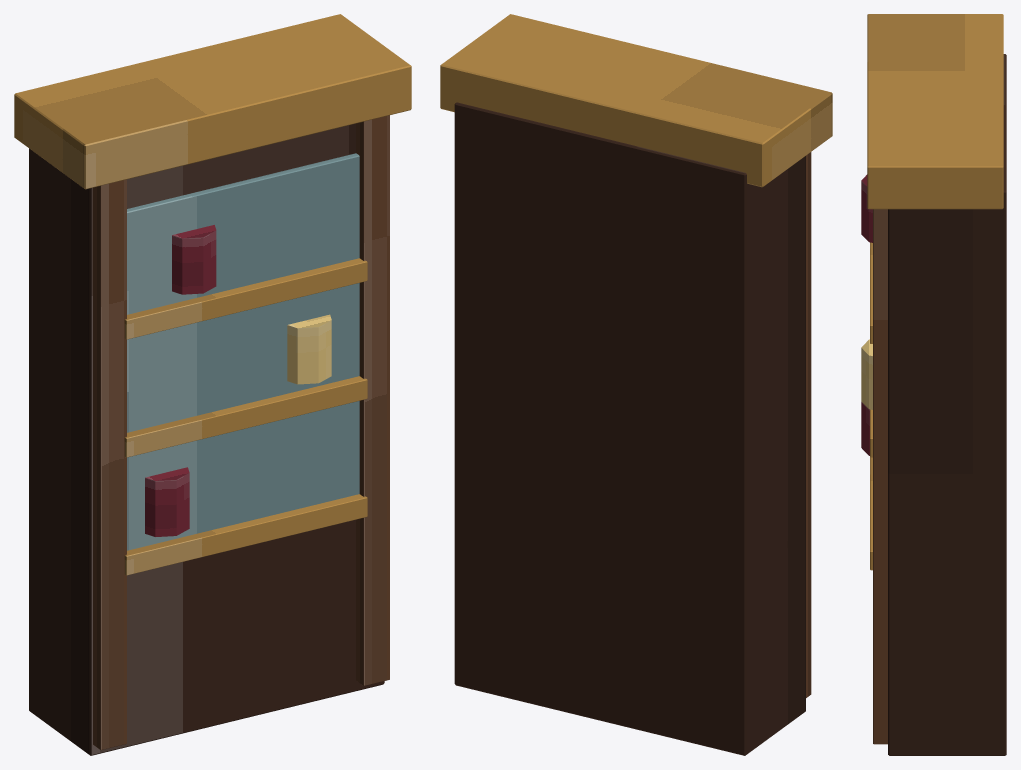
File: mansion_display_cabinet.glb
The picture shows the model from 3 angles, left to right: view 1: azimuth 30°, elevation 25°; view 2: azimuth 150°, elevation 25°; view 3: azimuth 270°, elevation 25°; orthographic projection. The views are drawn at different scales.
Visible parts, largest first — view 1: DisplayCabinetBody, DisplayGlass, DisplayCrown, DisplayPillar-0.49, DisplayPillar0.49, DisplayShelf0.68, DisplayShelf1.1, DisplayShelf1.52, DisplayVase_2, DisplayVase_1, DisplayVase_3; view 2: DisplayCabinetBody, DisplayCrown, DisplayPillar-0.49; view 3: DisplayCabinetBody, DisplayCrown, DisplayPillar0.49, DisplayVase_2, DisplayVase_3, DisplayVase_1, DisplayShelf0.68, DisplayShelf1.52.
Boxes of the visible parts, x1,y1,x2,y2 form: DisplayCabinetBody: [29, 123, 384, 755]; DisplayGlass: [127, 153, 359, 550]; DisplayCrown: [14, 14, 411, 189]; DisplayPillar-0.49: [93, 179, 126, 749]; DisplayPillar0.49: [356, 115, 389, 685]; DisplayShelf0.68: [124, 494, 367, 575]; DisplayShelf1.1: [124, 376, 367, 457]; DisplayShelf1.52: [124, 258, 367, 339]; DisplayVase_2: [287, 314, 331, 384]; DisplayVase_1: [145, 467, 189, 536]; DisplayVase_3: [172, 225, 216, 294]; DisplayCabinetBody: [454, 102, 805, 755]; DisplayCrown: [440, 14, 832, 187]; DisplayPillar-0.49: [806, 152, 811, 697]; DisplayCabinetBody: [888, 54, 1006, 755]; DisplayCrown: [867, 14, 1003, 209]; DisplayPillar0.49: [873, 209, 887, 744]; DisplayVase_2: [861, 339, 872, 409]; DisplayVase_3: [861, 174, 872, 242]; DisplayVase_1: [861, 402, 869, 455]; DisplayShelf0.68: [870, 457, 872, 570]; DisplayShelf1.52: [870, 242, 872, 343].
Bounding box in the file's own units: 1.22 × 2.22 × 0.49.
1 material, 1 textured.
